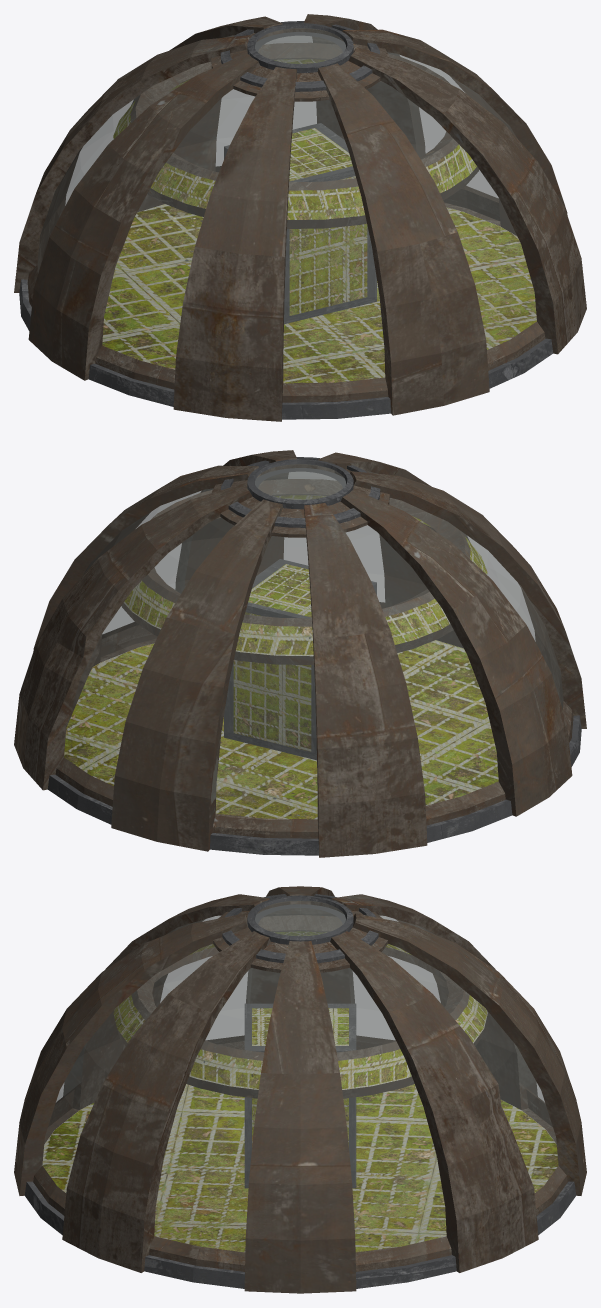
Rendered from Farm.gltf.
3 renders of one model, top to bottom at view 1: azimuth 30°, elevation 25°; view 2: azimuth 150°, elevation 25°; view 3: azimuth 270°, elevation 25°, orthographic.
Parts seen in each view (by area): view 1: Fram; view 2: Fram; view 3: Fram.
Part boxes in pixels (x1=…): Fram: x1=14, y1=14, x2=586, y2=421; Fram: x1=14, y1=450, x2=586, y2=857; Fram: x1=14, y1=886, x2=586, y2=1293.
Size of the model in its own units: 17.86 by 8.81 by 17.86.
